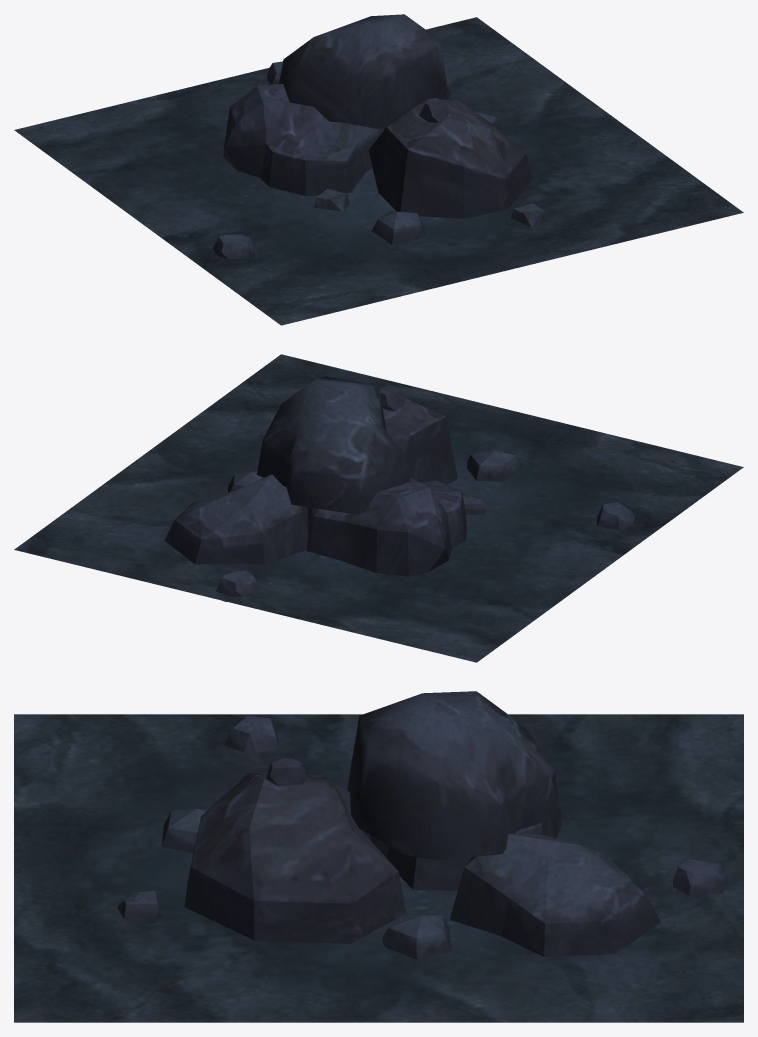
Rendered from mine_rubble_08.fbx.
The picture shows the model from 3 angles, top to bottom: view 1: azimuth 30°, elevation 25°; view 2: azimuth 150°, elevation 25°; view 3: azimuth 270°, elevation 25°; orthographic projection. The views are drawn at different scales.
Parts seen in each view (by area): view 1: mine_rubble_08-0; view 2: mine_rubble_08-0; view 3: mine_rubble_08-0.
Boxes of the visible parts, box(x1,y1,x2,y2) form: mine_rubble_08-0: box(14, 14, 743, 325); mine_rubble_08-0: box(14, 354, 743, 662); mine_rubble_08-0: box(14, 691, 743, 1022).
Bounding box in the file's own units: 4 × 1.14 × 4.
